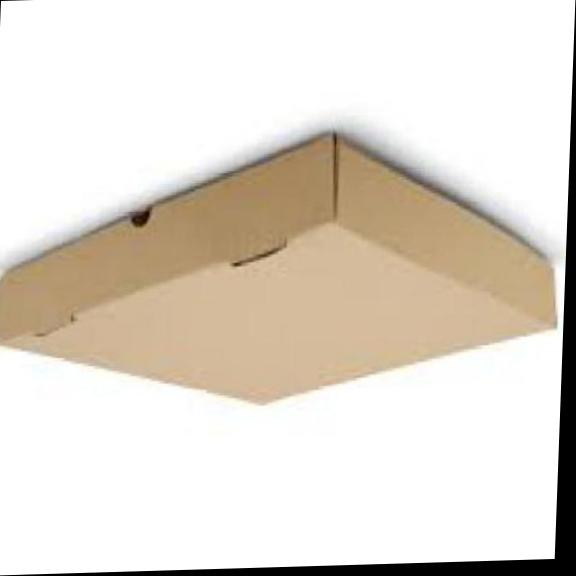Kertas: (0, 135, 555, 403)
